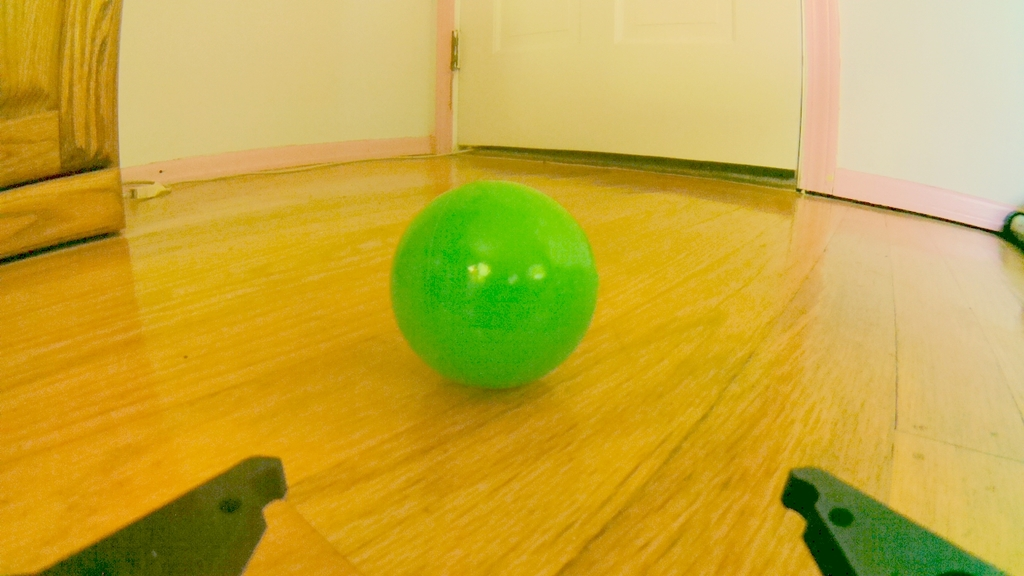ball: (385, 179, 601, 396)
